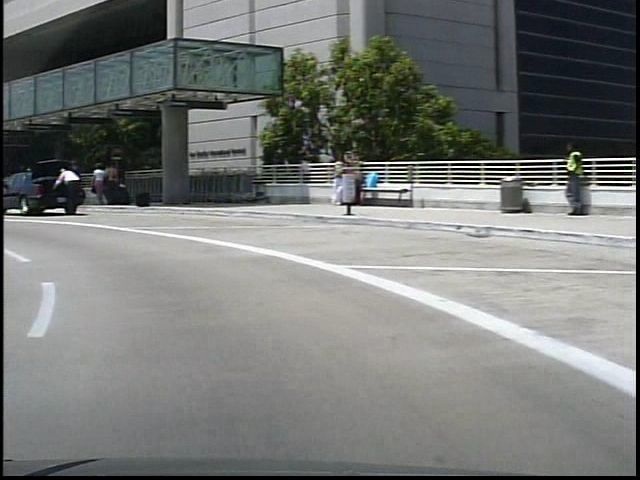person: (549, 136, 578, 218), (47, 166, 80, 219), (99, 160, 115, 209), (86, 164, 99, 205)
